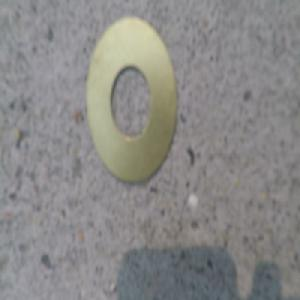Washer: (82, 22, 175, 187)
